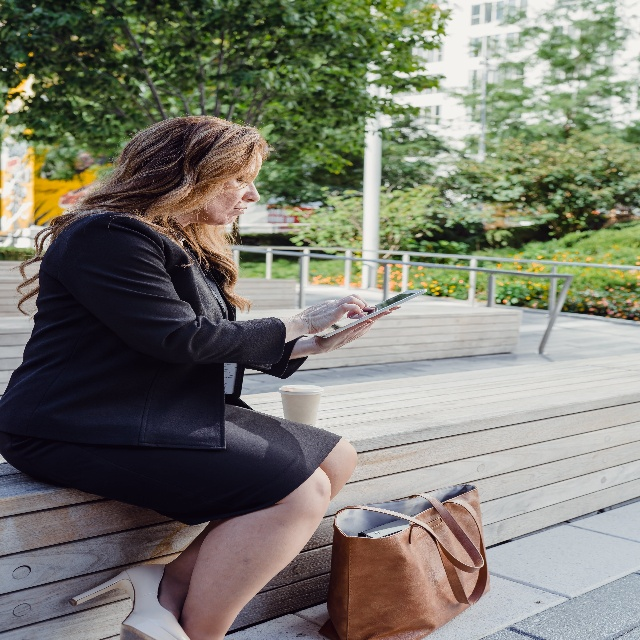Sin_guantes: (312, 305, 401, 354), (302, 293, 376, 334)
